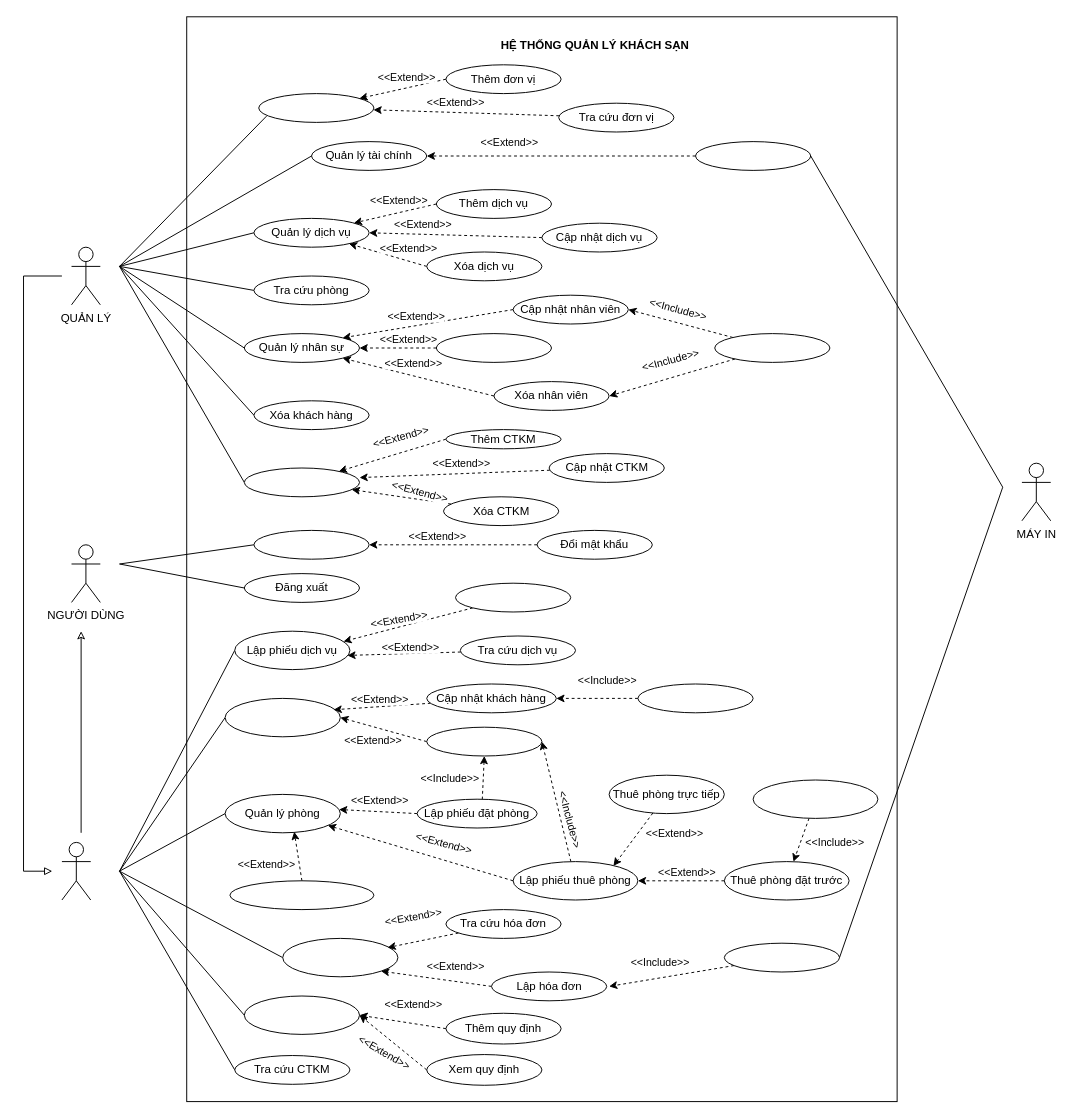
This 1072x1118 diagram has some shape labels left out. The shapes that lost their labels are listed below. From the top down, each one's centre as x and y in pixels, then its label:
point (316, 107): Quản lý đơn vị
point (753, 155): Xuất thống kê
point (493, 347): Thêm nhân viên
point (772, 347): Tra cứu nhân viên
point (301, 482): Quản lý CTKM
point (311, 544): Đăng nhập
point (513, 597): Xuất phiếu dịch vụ
point (282, 717): Quản lý khách hàng
point (695, 698): Tra cứu khách hàng
point (484, 741): Thêm khách hàng
point (815, 798): Tìm thông tin đặt phòng
point (76, 870): NHÂN VIÊN
point (301, 895): Kiểm tra tình trạng phòng
point (340, 957): Quản lý hóa đơn
point (781, 957): Xuất hóa đơn
point (301, 1014): Quản lý quy định
